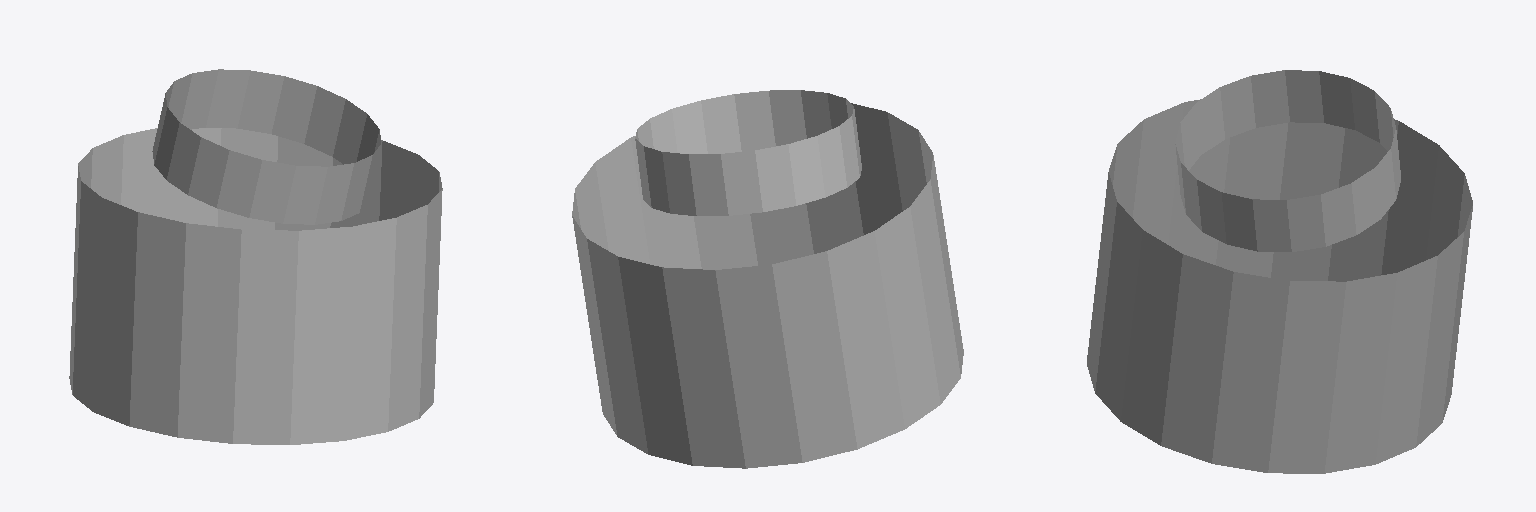
Rendered from tree_0052.obj.
The picture shows the model from 3 angles: view 1: azimuth 30°, elevation 25°; view 2: azimuth 150°, elevation 25°; view 3: azimuth 270°, elevation 25°; orthographic projection.
Visible parts, largest first — view 1: groupWood; view 2: groupWood; view 3: groupWood.
Part boxes in pixels (bbox=[...]): groupWood: bbox=[69, 69, 442, 444]; groupWood: bbox=[572, 90, 963, 468]; groupWood: bbox=[1087, 70, 1472, 473].
Bounding box in the file's own units: 1.39 × 1.2 × 1.39.